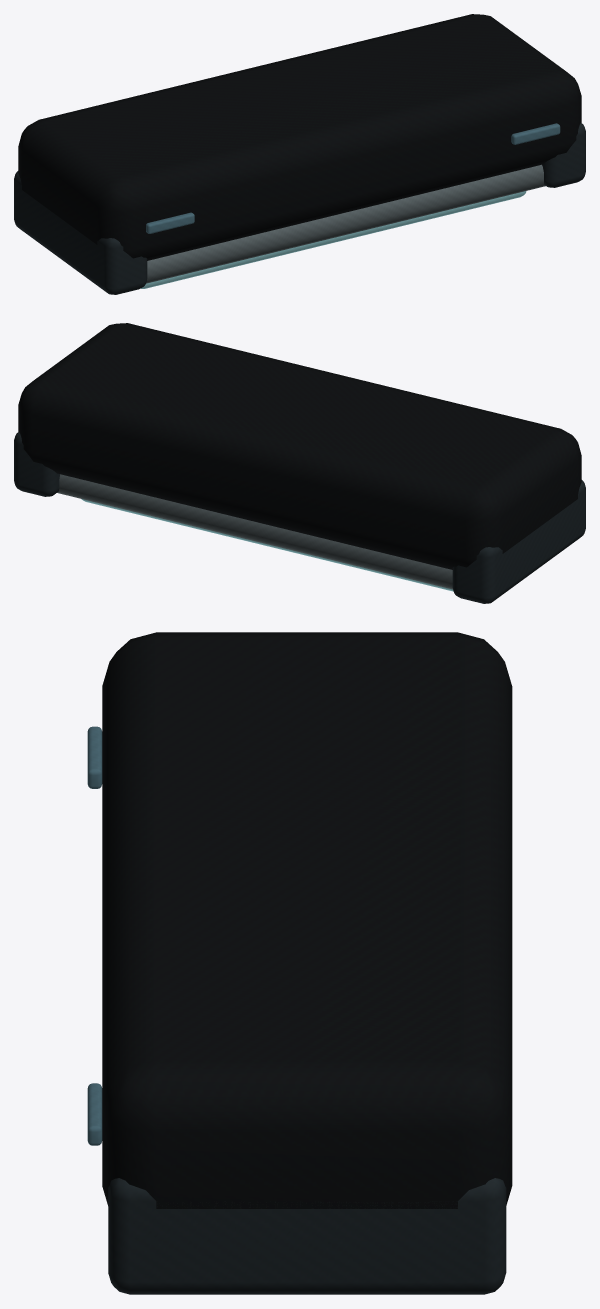
The model's file is CeilingLight.glb.
The picture shows the model from 3 angles, top to bottom: view 1: azimuth 30°, elevation 25°; view 2: azimuth 150°, elevation 25°; view 3: azimuth 270°, elevation 25°; orthographic projection. The views are drawn at different scales.
Parts seen in each view (by area): view 1: CeilingLight_Mesh; view 2: CeilingLight_Mesh; view 3: CeilingLight_Mesh.
Part boxes in pixels (box(x1,y1,x2,y2)): CeilingLight_Mesh: box(14, 14, 585, 294); CeilingLight_Mesh: box(14, 323, 585, 603); CeilingLight_Mesh: box(87, 632, 512, 1294).
Bounding box in the file's own units: 0.92 × 0.236 × 0.352.
Materials: 6 (6 with a texture image).
